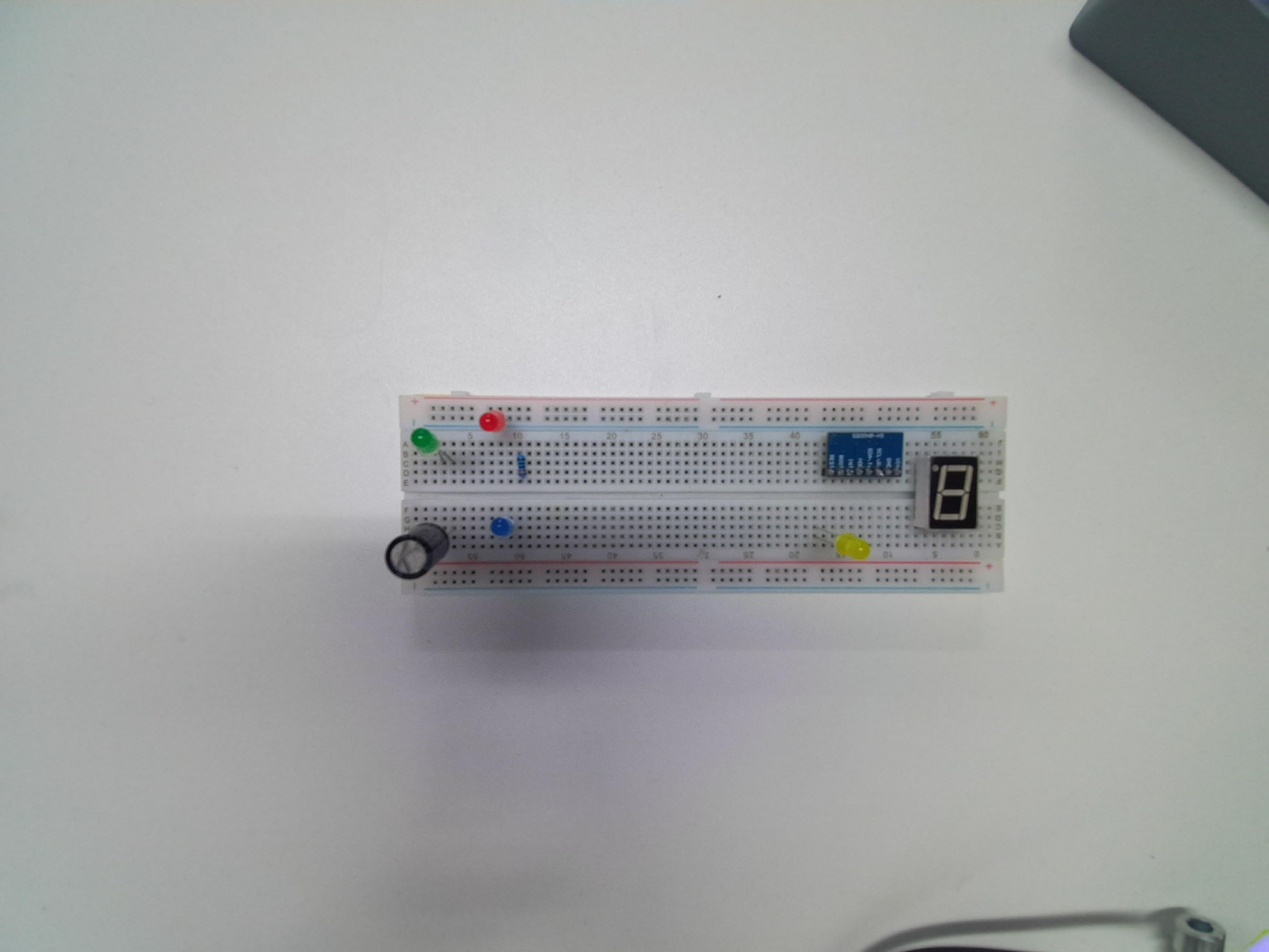base: (387, 393, 1007, 596)
blue-board: (822, 427, 906, 482)
blue-led: (491, 516, 514, 537)
capacitor: (385, 524, 453, 582)
digit-board: (923, 452, 981, 531)
green-led: (409, 427, 444, 459)
red-led: (480, 408, 504, 430)
resistor-small: (515, 450, 528, 482)
yellow-led: (836, 531, 869, 561)
